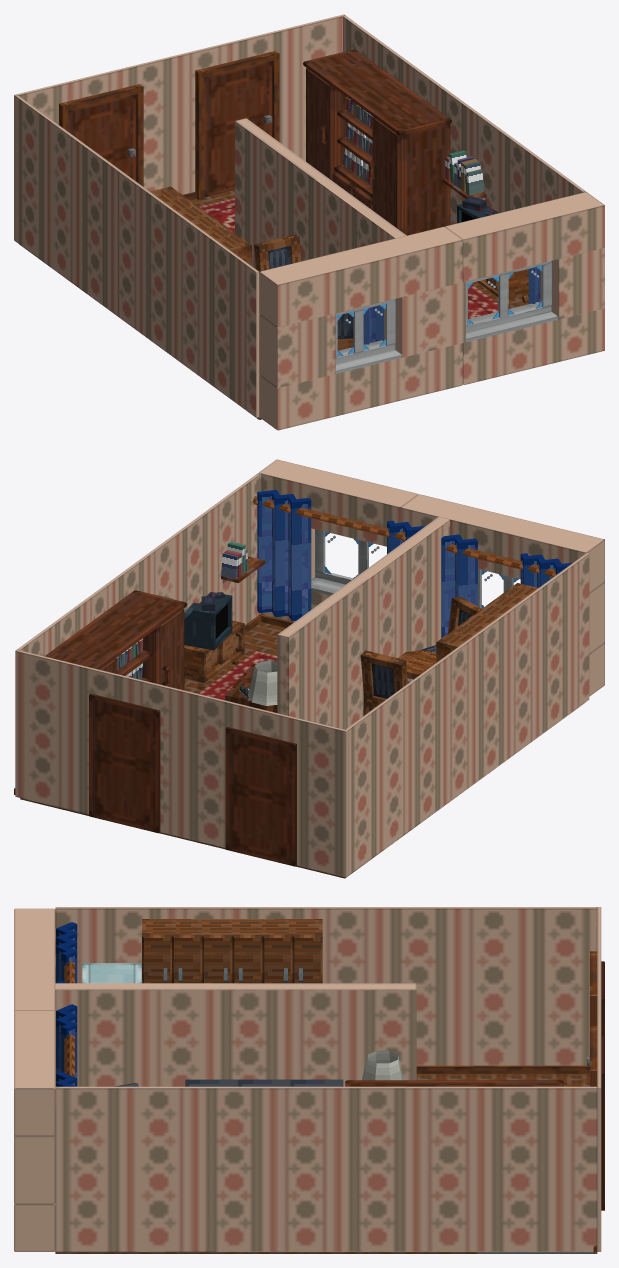
The model's file is komnata kop.fbx.
The picture shows the model from 3 angles, top to bottom: view 1: azimuth 30°, elevation 25°; view 2: azimuth 150°, elevation 25°; view 3: azimuth 270°, elevation 25°; orthographic projection. The views are drawn at different scales.
Parts seen in each view (by area): view 1: cube_8, mesh_4, cube_7, cube_6, mesh_3, mesh_5, cube_4, cube_2, mesh_7, mesh, cube_3; view 2: cube_8, cube_2, cube_6, cube_7, mesh_4, mesh, cube_4, mesh_7, mesh_3, cylinder, mesh_6, cube_3 (+2 smaller); view 3: cube_8, mesh_3, cube_2, mesh_4, mesh_8, cube, cube_7, cylinder, cube_6.
Part boxes in pixels (x1=…): cube_8: x1=14, y1=14, x2=604, y2=430; mesh_4: x1=303, y1=49, x2=451, y2=235; cube_7: x1=195, y1=51, x2=279, y2=199; cube_6: x1=59, y1=84, x2=143, y2=186; mesh_3: x1=150, y1=186, x2=251, y2=265; mesh_5: x1=442, y1=150, x2=486, y2=199; cube_4: x1=254, y1=234, x2=300, y2=272; cube_2: x1=363, y1=267, x2=540, y2=344; mesh_7: x1=477, y1=269, x2=528, y2=307; mesh: x1=457, y1=196, x2=499, y2=223; cube_3: x1=337, y1=313, x2=353, y2=349; cube_8: x1=14, y1=459, x2=604, y2=878; cube_2: x1=252, y1=490, x2=572, y2=638; cube_6: x1=225, y1=727, x2=296, y2=866; cube_7: x1=89, y1=693, x2=160, y2=833; mesh_4: x1=45, y1=590, x2=187, y2=690; mesh: x1=184, y1=592, x2=232, y2=650; cube_4: x1=360, y1=650, x2=409, y2=715; mesh_7: x1=184, y1=620, x2=244, y2=690; mesh_3: x1=436, y1=583, x2=537, y2=662; cylinder: x1=247, y1=660, x2=277, y2=711; mesh_6: x1=221, y1=541, x2=265, y2=583; cube_3: x1=422, y1=596, x2=481, y2=652; cube_8: x1=14, y1=907, x2=601, y2=1253; mesh_3: x1=142, y1=919, x2=322, y2=983; cube_2: x1=56, y1=922, x2=77, y2=1086; mesh_4: x1=345, y1=1080, x2=563, y2=1086; mesh_8: x1=185, y1=1079, x2=343, y2=1086; cube: x1=82, y1=963, x2=142, y2=983; cube_7: x1=590, y1=1026, x2=604, y2=1210; cylinder: x1=362, y1=1050, x2=403, y2=1080; cube_6: x1=587, y1=951, x2=604, y2=1066.
Bounding box in the file's own units: 719 × 309 × 981.
Materials: 18 (18 with a texture image).
